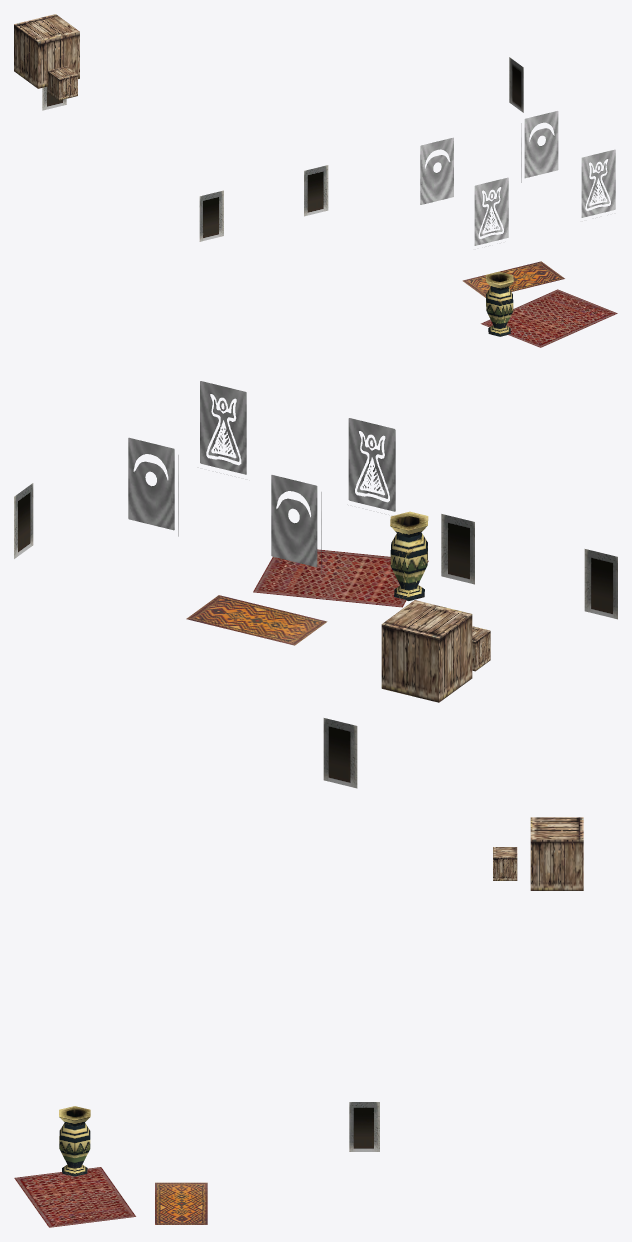
The model's file is kart_house_a_1.dae.
3 views of the same model, one above another, from view 1: azimuth 30°, elevation 25°; view 2: azimuth 150°, elevation 25°; view 3: azimuth 270°, elevation 25° (orthographic). The views are drawn at different scales.
Visible parts, largest first — view 1: Plane14; view 2: Plane14; view 3: Plane14.
Boxes of the visible parts, box(x1,y1,x2,y2) form: Plane14: box(14, 14, 617, 347); Plane14: box(14, 381, 617, 788); Plane14: box(14, 817, 583, 1227).
Bounding box in the file's own units: 11.97 × 14.19 × 5.66.
